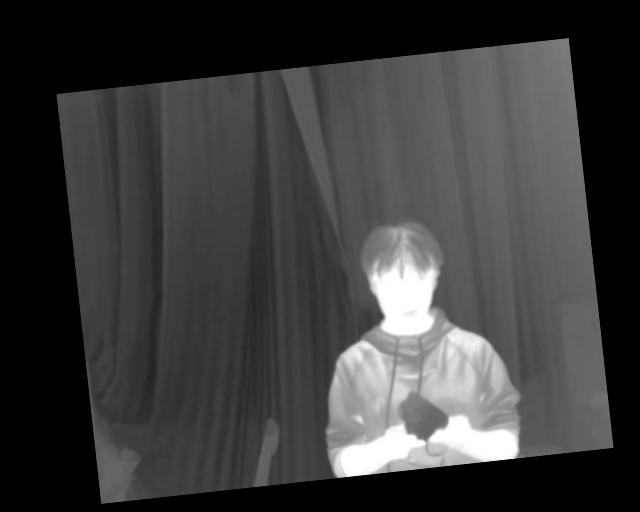face: (358, 218, 445, 331)
